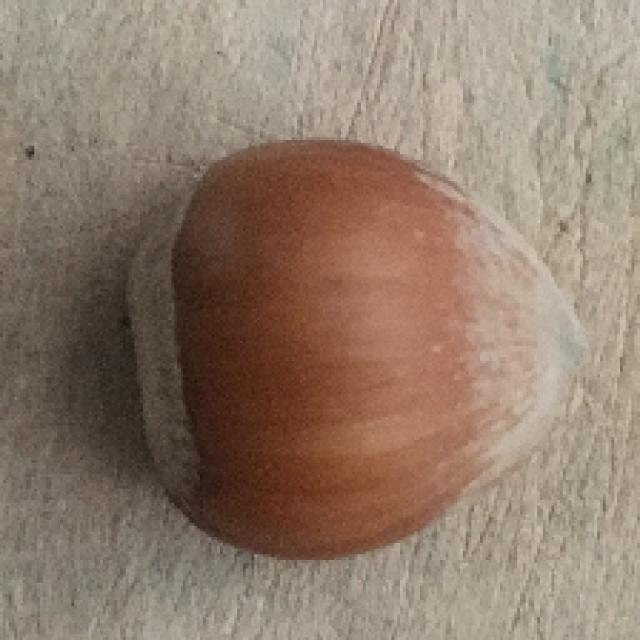qualityHazelnut: (125, 136, 592, 561)
